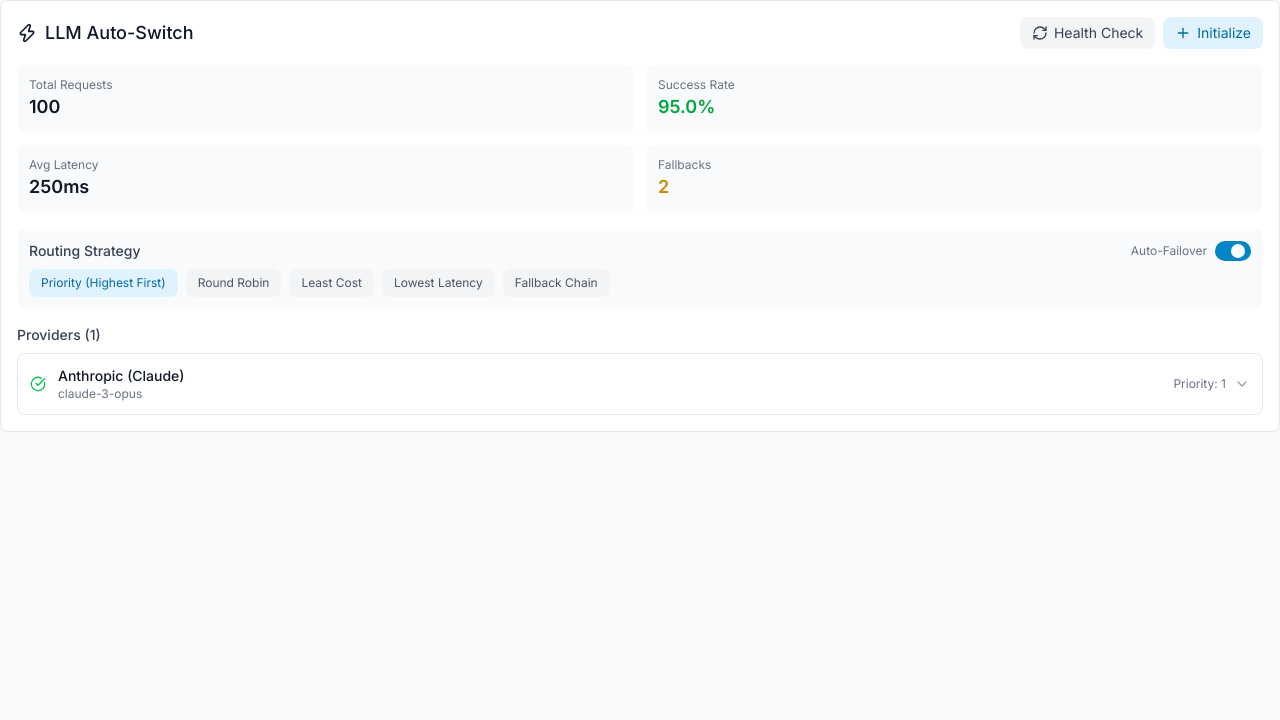
Test case: LLMRouterSettings › expands provider details on click
Click the provider row to expand
Click the text "Anthropic (Claude)". click: click(121, 376)
box: [58,366,184,386]
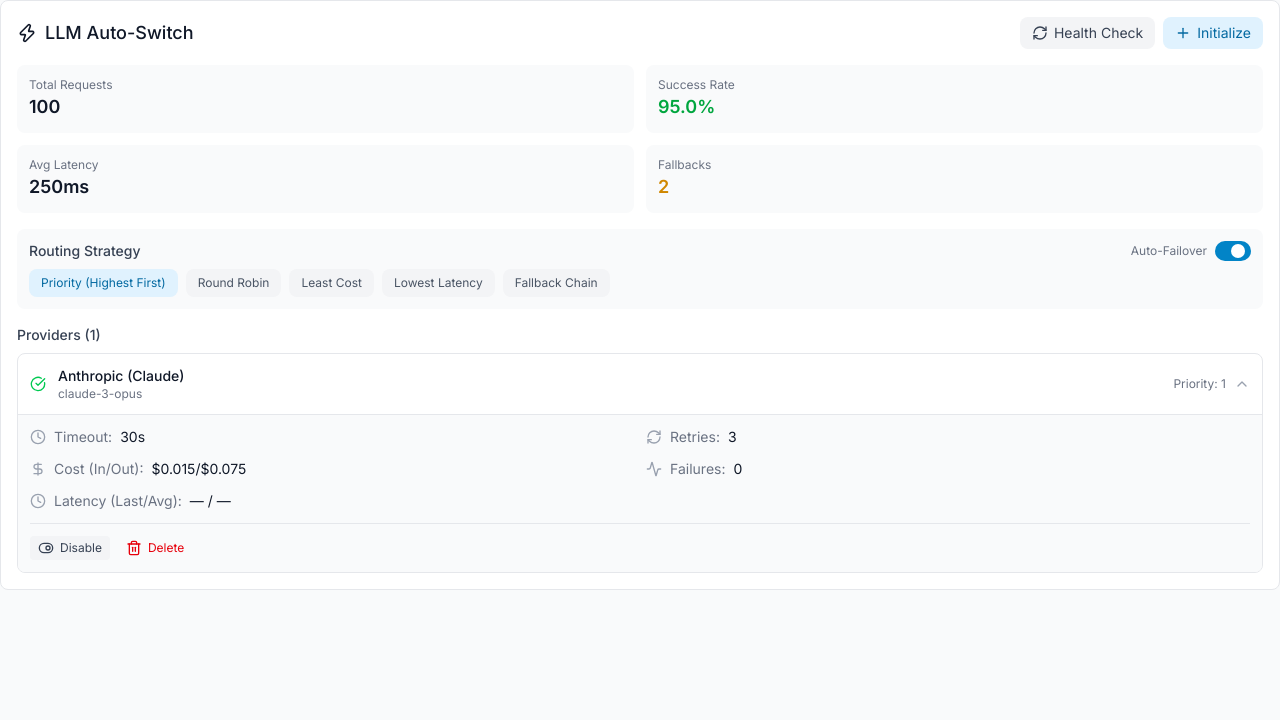
Check: the text "Timeout:" is shown, box [54,427,112,447]
Check: the text "30s" is shown, box [120,427,145,447]
Check: the text "Retries:" is shown, box [670,427,720,447]
